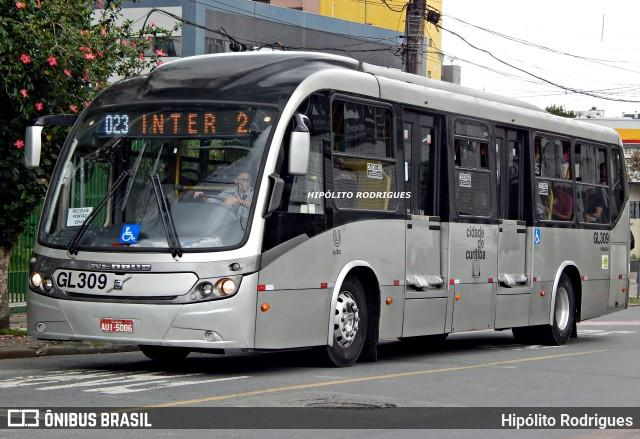INTER2: (136, 108, 255, 135)
